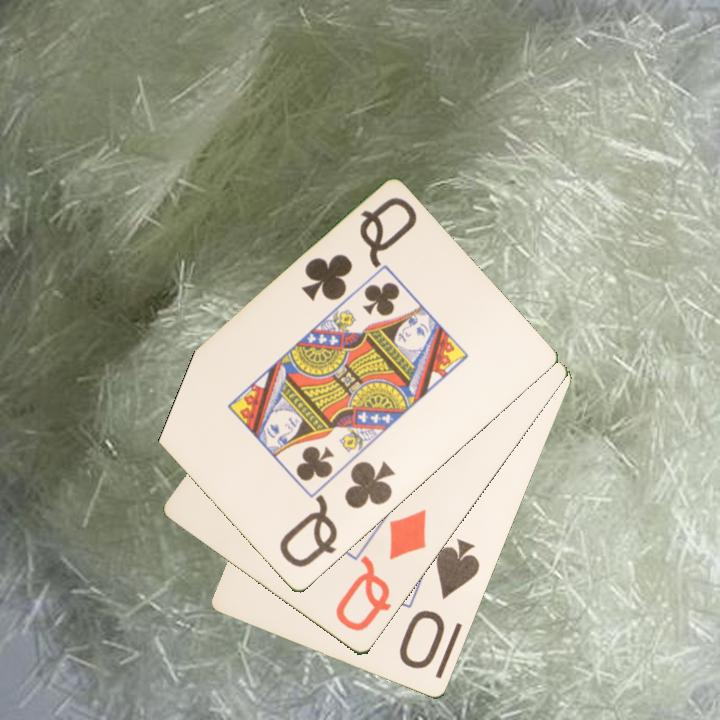10s: (395, 536, 484, 673)
Qc: (275, 458, 399, 572), (297, 194, 420, 305)
Qd: (331, 506, 430, 635)
